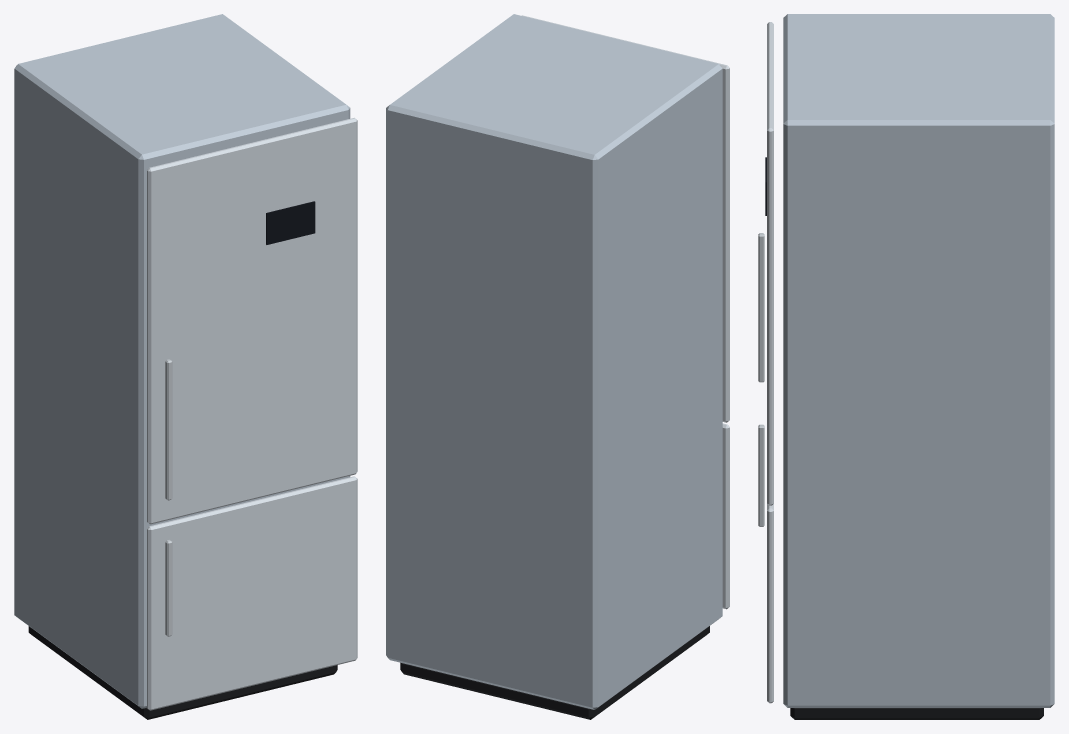
The model's file is fridge.glb.
3 views of the same model, side by side, from view 1: azimuth 30°, elevation 25°; view 2: azimuth 150°, elevation 25°; view 3: azimuth 270°, elevation 25° (orthographic). The views are drawn at different scales.
Visible parts, largest first — view 1: fridge_Body; view 2: fridge_Body; view 3: fridge_Body.
Part boxes in pixels (bbox=[...]): fridge_Body: bbox=[14, 14, 357, 719]; fridge_Body: bbox=[386, 14, 729, 719]; fridge_Body: bbox=[758, 14, 1054, 719].
Size of the model in its own units: 0.7 by 1.8 by 0.8.
